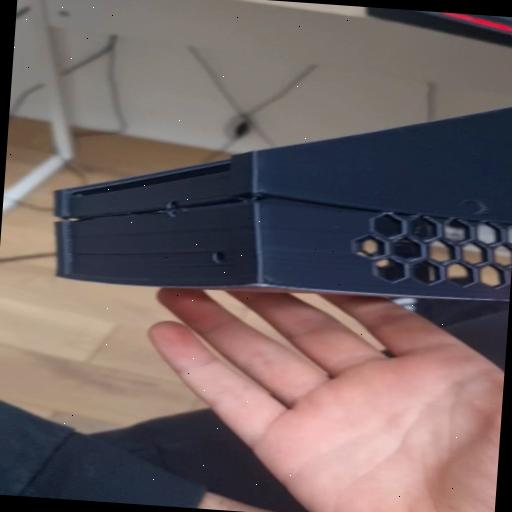cracks: (55, 172, 343, 248)
